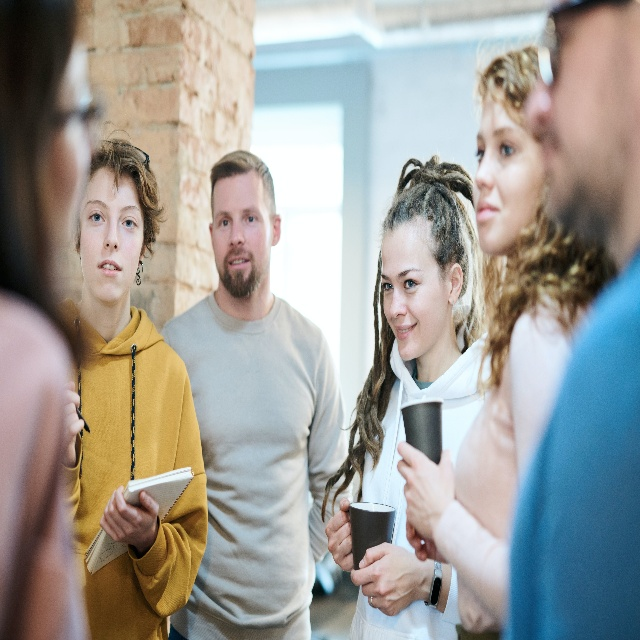Gafas: (537, 0, 625, 88), (101, 139, 150, 171)
Sin_guantes: (396, 441, 457, 543), (349, 542, 420, 616), (99, 486, 160, 550), (60, 381, 85, 467), (325, 499, 354, 573), (405, 519, 427, 561)
